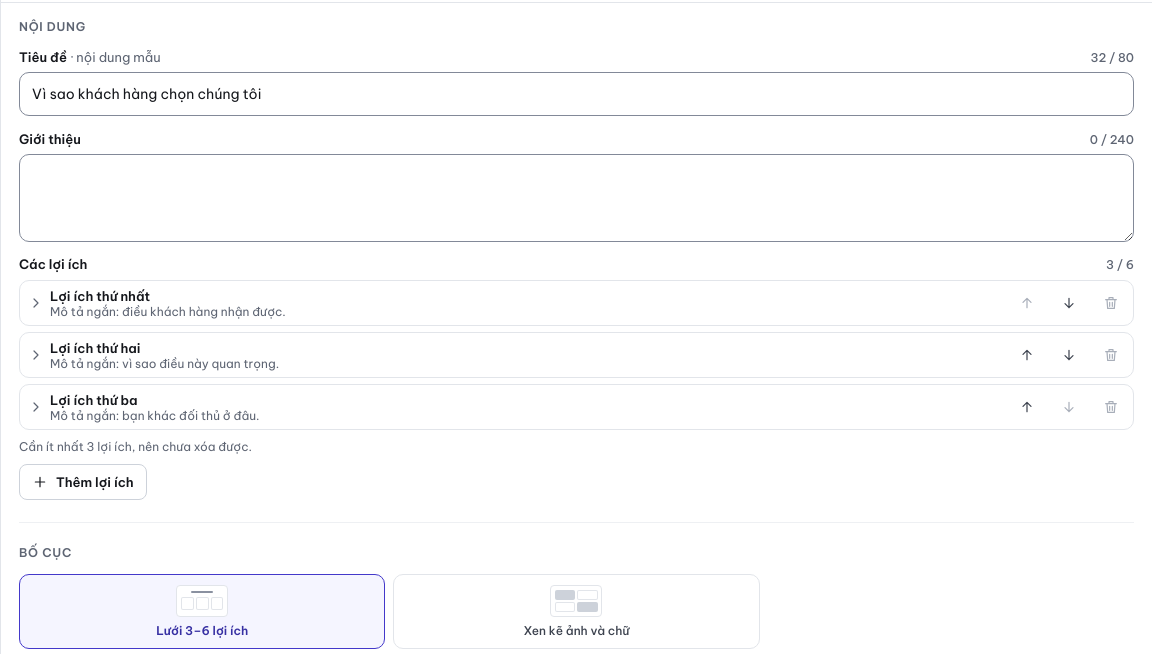
Scenario: PropertiesPanel › renders list items and disables adding at the maximum
Expected: the text "3 / 6" is shown, [1106,257,1134,272]
What coordinates should you click on to do the following:
click the button "Lợi ích thứ nhất Mô tả ngắn: điều khách hàng nhận được."
I would click on:
 (100, 296)
Its box is [20,281,1005,325].
(page scrolled)
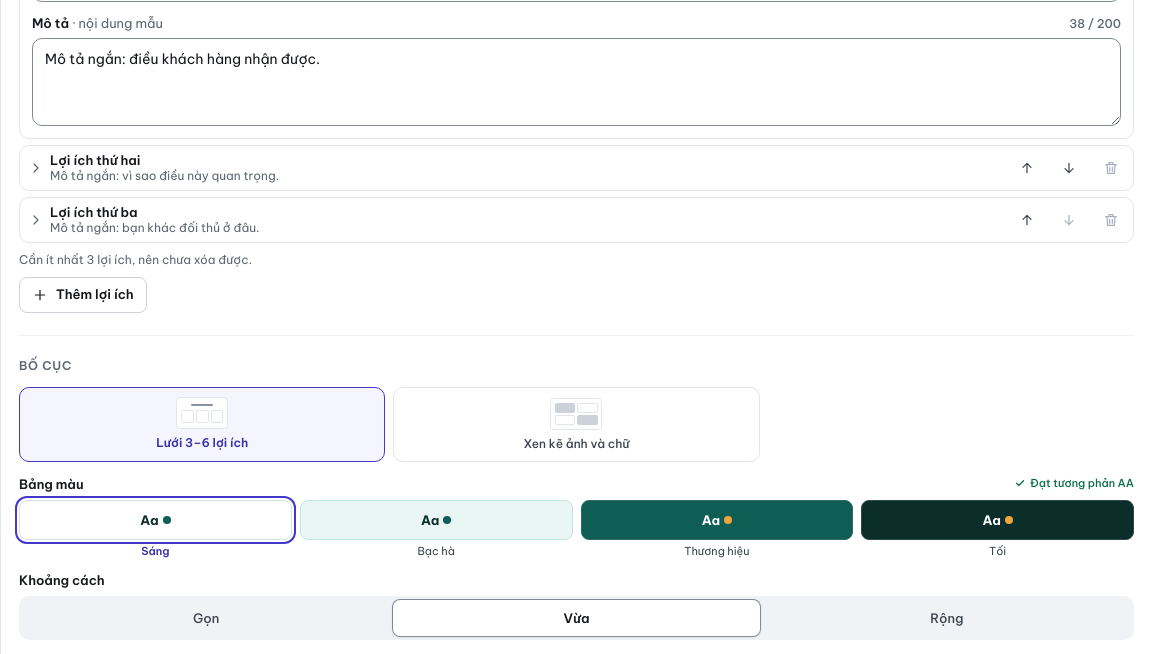
What coordinates should you click on to do the following:
click the button "Thêm lợi ích"
I would click on:
 (83, 295)
Its box is [19,277,147,313].
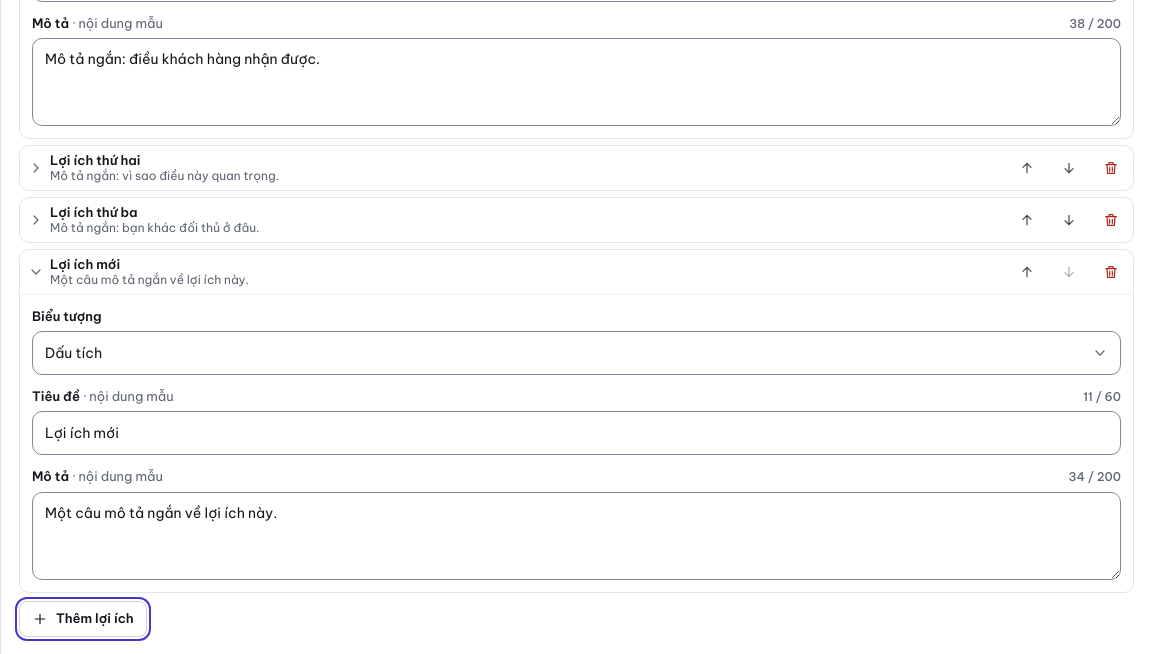
What coordinates should you click on to do the following:
click the button "Thêm lợi ích"
I would click on:
 (83, 618)
Its box is [19,600,147,636].
(page scrolled)
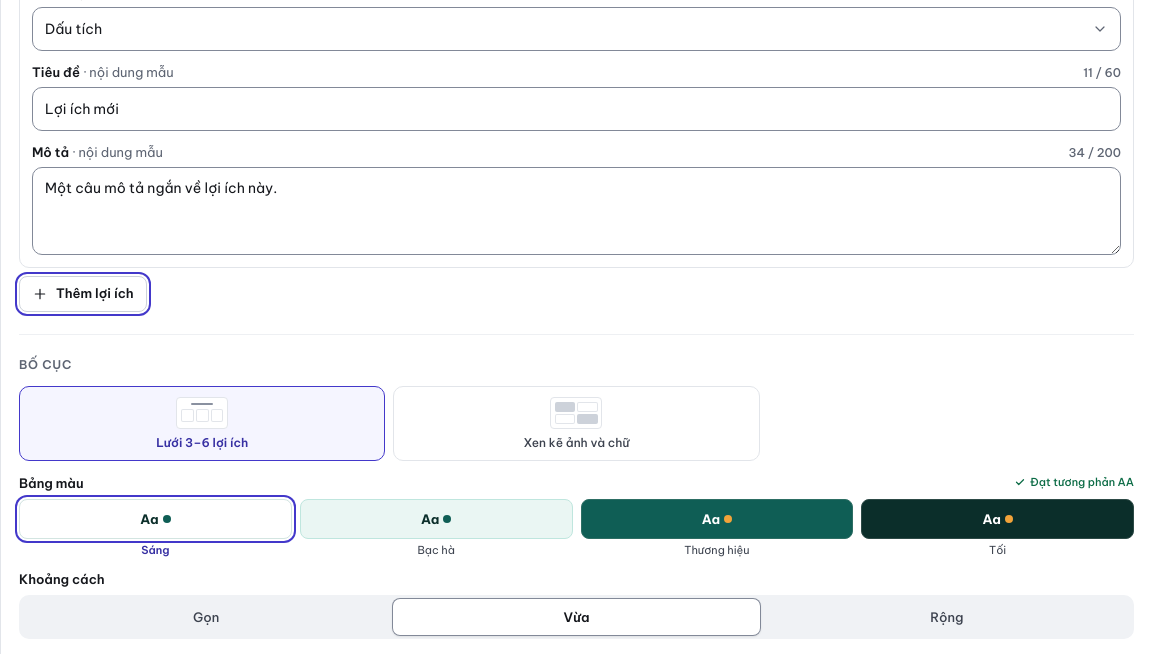
What coordinates should you click on to do the following:
click the button "Thêm lợi ích"
I would click on:
 (83, 294)
Its box is [19,276,147,312].
(page scrolled)
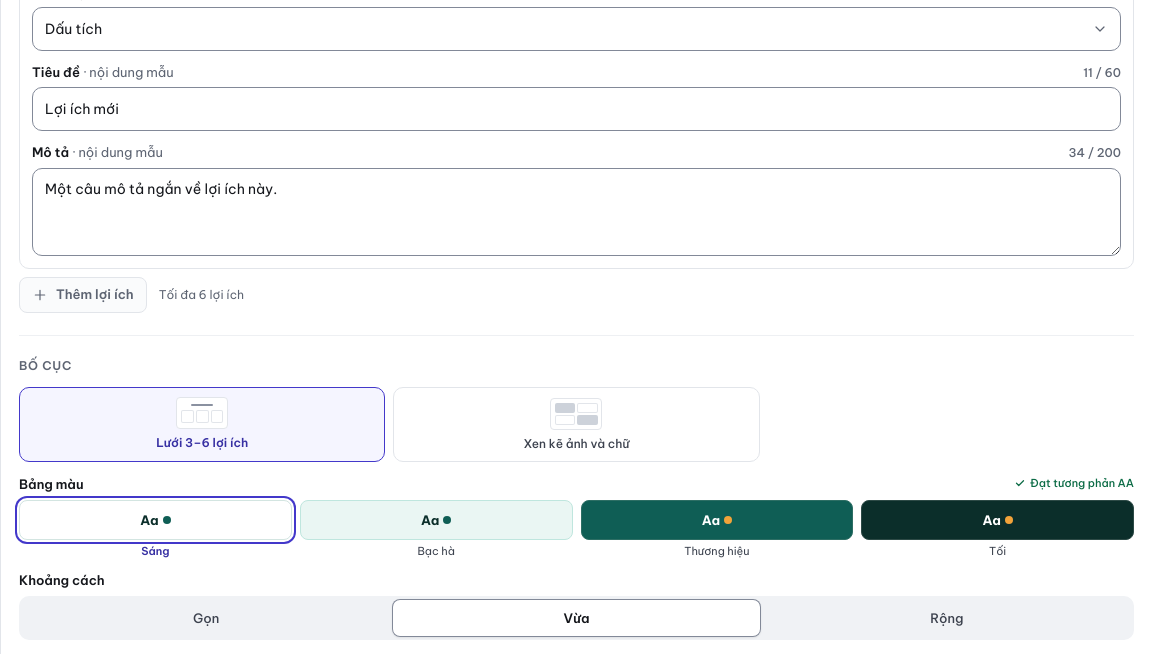
Expected: the button "Thêm lợi ích" is disabled, [19,277,147,313]
